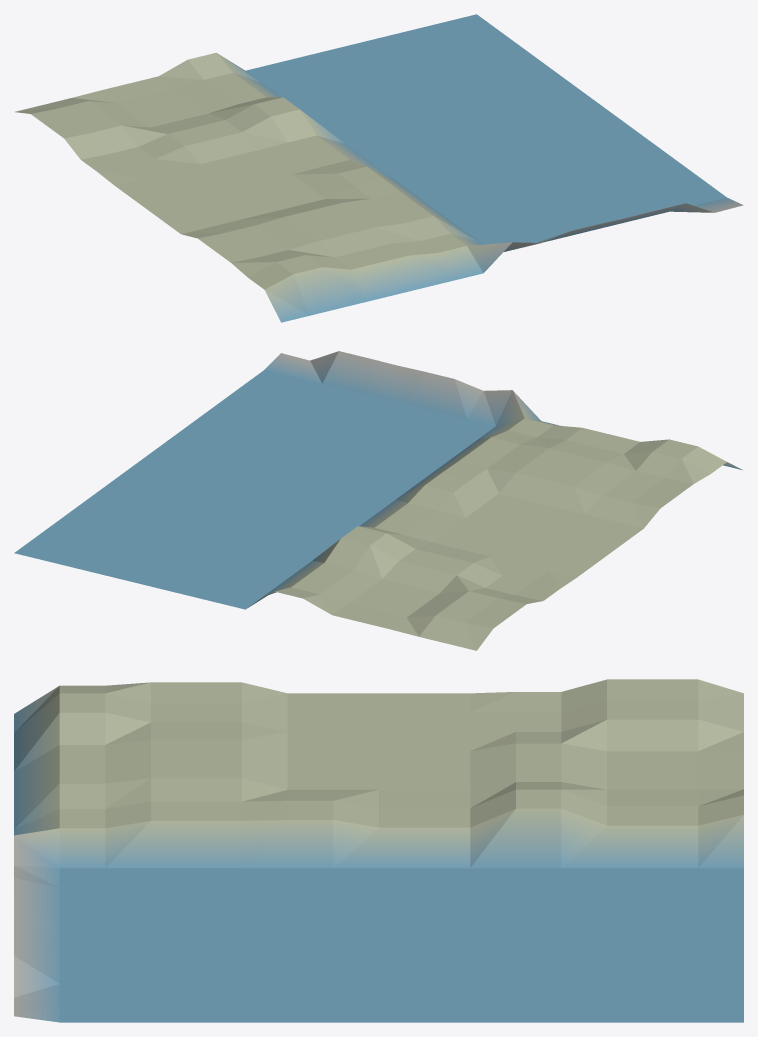
The picture shows the model from 3 angles, top to bottom: view 1: azimuth 30°, elevation 25°; view 2: azimuth 150°, elevation 25°; view 3: azimuth 270°, elevation 25°; orthographic projection. The views are drawn at different scales.
Bounding box in the file's own units: 32 × 1.94 × 32.
